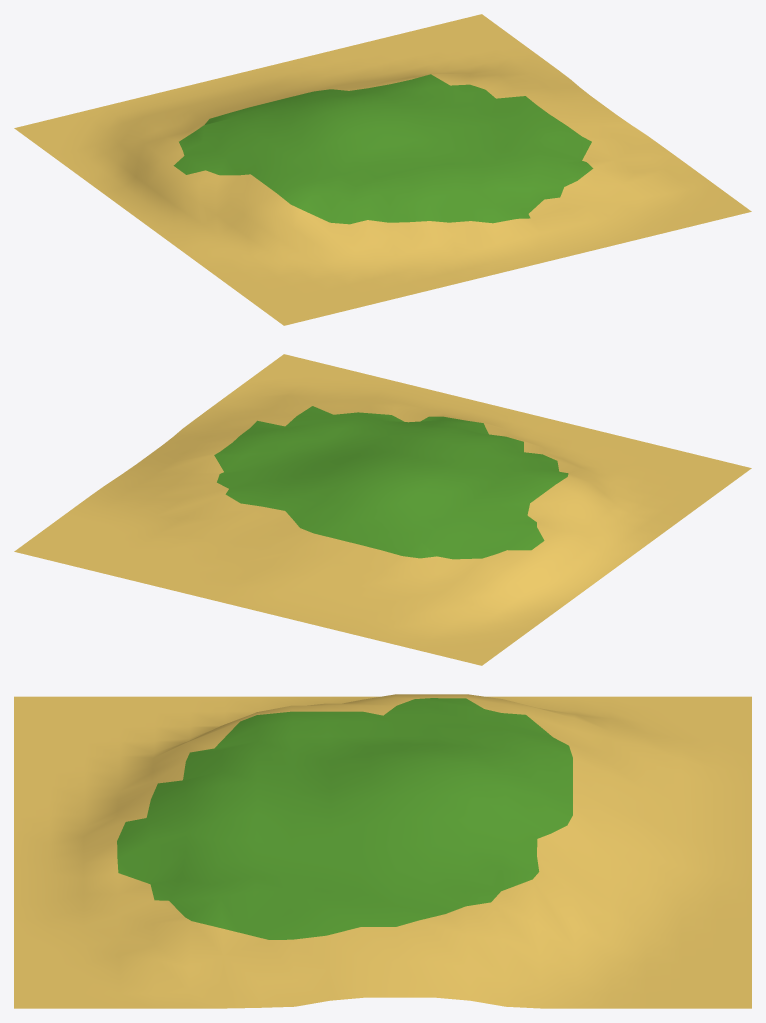
The model's file is island.fbx.
3 renders of one model, top to bottom at view 1: azimuth 30°, elevation 25°; view 2: azimuth 150°, elevation 25°; view 3: azimuth 270°, elevation 25°, orthographic. The views are drawn at different scales.
Parts seen in each view (by area): view 1: Plane; view 2: Plane; view 3: Plane.
Part boxes in pixels (x1,y1,x2,y2): Plane: (14, 14, 751, 325); Plane: (14, 354, 751, 665); Plane: (14, 694, 751, 1008).
Size of the model in its own units: 32596 by 3342 by 32576.
